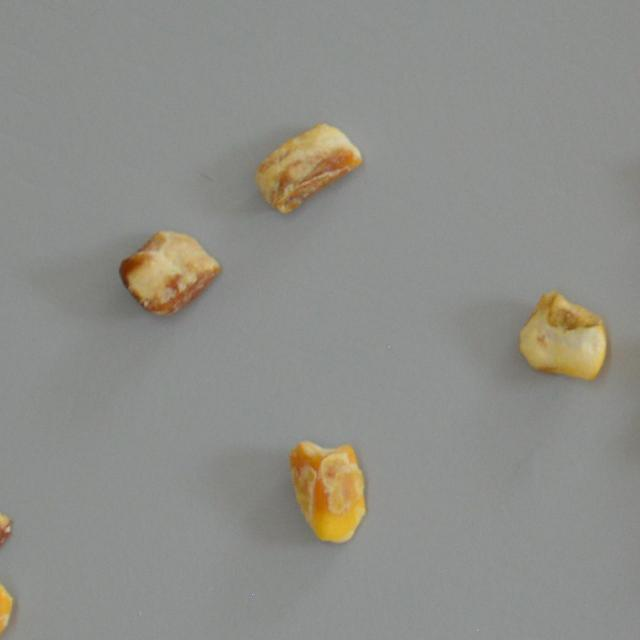dañado: (254, 121, 363, 214), (115, 230, 221, 316), (514, 290, 606, 380)
pelicula: (288, 435, 372, 544)
